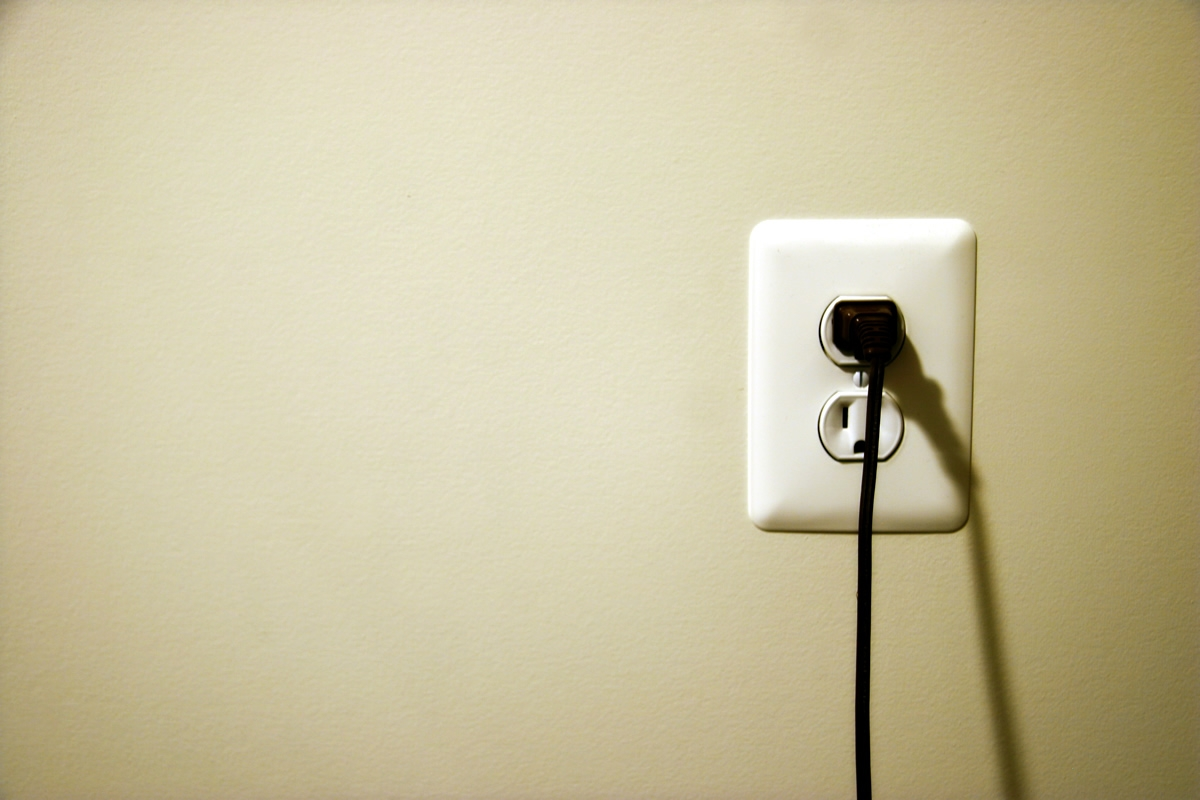outlet: (828, 393, 892, 458)
